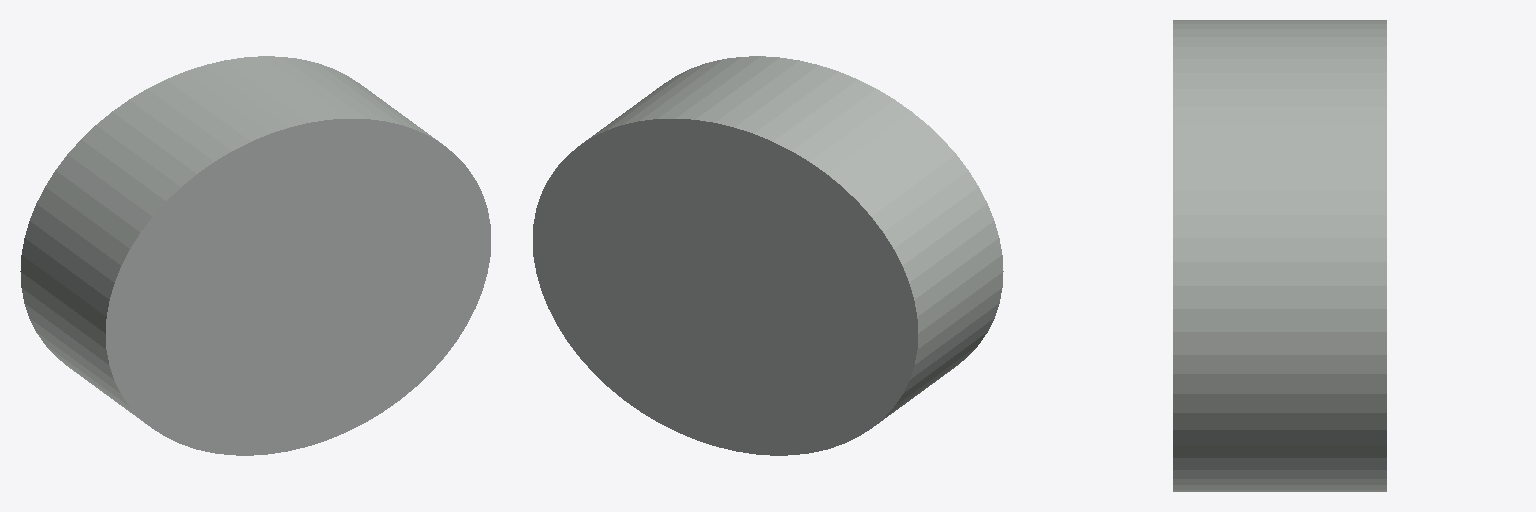
robot.urdf — ellip:
<?xml version="1.0"?>
<robot name="ellip">
  <link name="ellip_base_link">
    <contact>
      <lateral_friction value="0.25"/>
      <spinning_friction value=".001"/>
    </contact>
    <inertial>
      <origin rpy="0 0 0" xyz="0 0 0"/>
      <mass value="0.837"/>
      <inertia ixx="7.3935e-04" ixy="0" ixz="0" iyx="0" iyy="7.3935e-04" iyz="0" izx="0" izy="0" izz="7.3935e-04"/>
    </inertial>
    <visual>
      <origin rpy="0 0 0" xyz="0.0 0.0 0.0"/>
      <geometry>
        <mesh filename="ellip.stl" scale="0.001 0.001 0.001"/> 
      </geometry>
      <material name="rectmat">
        <color rgba="0.7148 0.7344 0.7188 1"/>
      </material>
    </visual>
    <collision>
      <origin rpy="0 0 0" xyz="0.0 0.0 0.0"/>
      <geometry>
        <mesh filename="ellip.stl" scale="0.001 0.001 0.001"/> 
      </geometry>
    </collision>
  </link>
</robot>

--- Render facts (derived) ---
The picture shows the robot from 3 angles, left to right: view 1: azimuth 30°, elevation 25°; view 2: azimuth 150°, elevation 25°; view 3: azimuth 270°, elevation 25°; orthographic projection.
Model ellip with 1 links and 0 joints (none), rooted at ellip_base_link, posed every joint at zero.
Links seen in each view (by area): view 1: ellip_base_link; view 2: ellip_base_link; view 3: ellip_base_link.
Boxes of the visible links, left/top/right/bottom form: ellip_base_link: left=20, top=56, right=490, bottom=455; ellip_base_link: left=533, top=56, right=1003, bottom=455; ellip_base_link: left=1173, top=20, right=1386, bottom=491.
Size in the robot's own frame: 0.1309 by 0.05 by 0.1049 metres.
Meshes: 1 distinct files referenced, 1 mesh visuals loaded (1 binary STL).